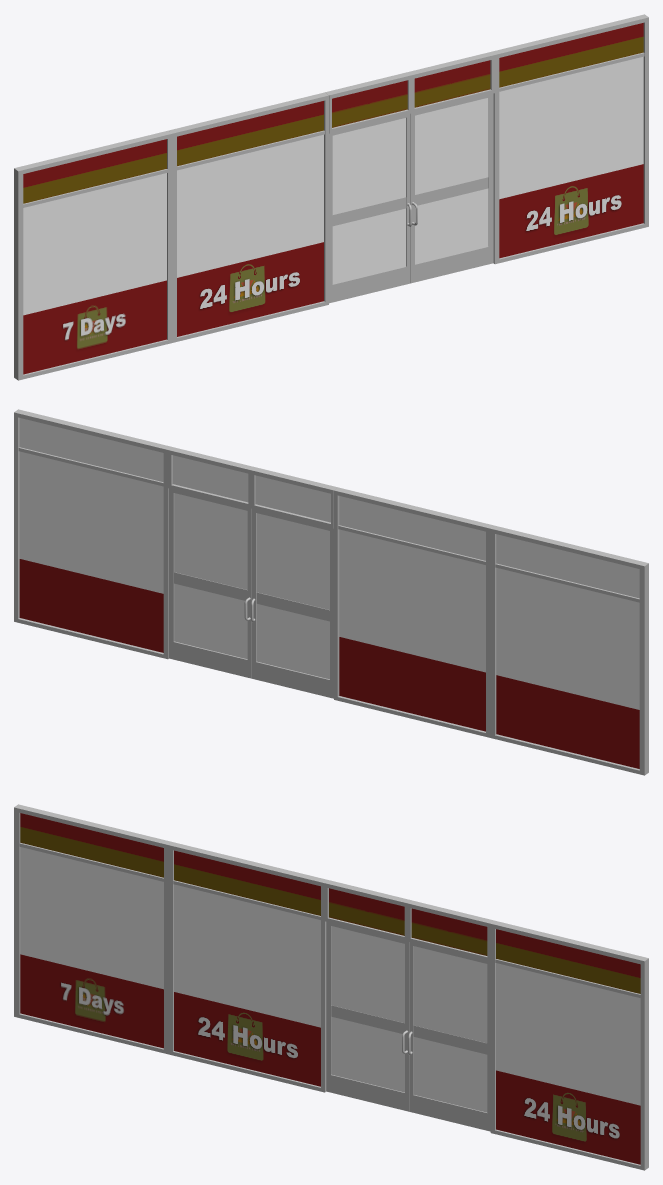
File: Windows door.fbx
3 renders of one model, top to bottom at view 1: azimuth 30°, elevation 25°; view 2: azimuth 150°, elevation 25°; view 3: azimuth 330°, elevation 25°, orthographic.
Parts seen in each view (by area): view 1: windows door, door A, door B; view 2: windows door, door A, door B; view 3: windows door, door B, door A.
Part boxes in pixels (<box>): windows door: <box>14,14,648,380</box>; door A: <box>410,93,493,283</box>; door B: <box>329,113,411,303</box>; windows door: <box>14,409,648,775</box>; door A: <box>169,488,251,678</box>; door B: <box>251,508,333,698</box>; windows door: <box>14,804,648,1170</box>; door B: <box>326,922,409,1111</box>; door A: <box>408,942,490,1131</box>.
Bounding box in the file's own units: 849 × 269 × 20.84.
